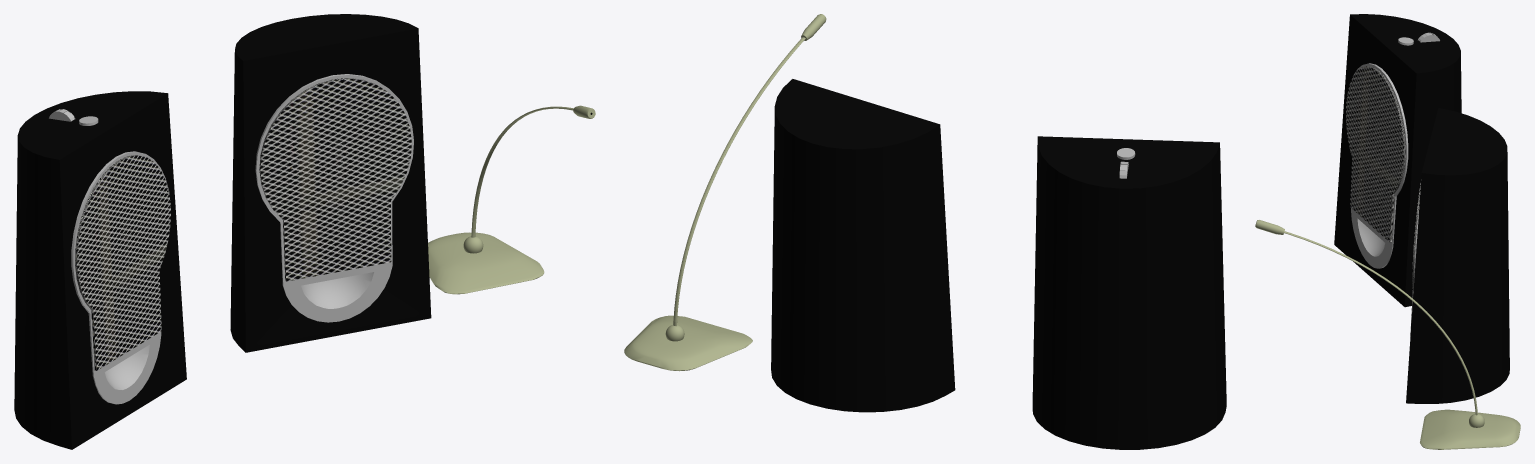
The model's file is NewWebCasseMic.gltf.
3 views of the same model, side by side, from view 1: azimuth 30°, elevation 25°; view 2: azimuth 150°, elevation 25°; view 3: azimuth 270°, elevation 25° (orthographic). The views are drawn at different scales.
Visible parts, largest first — view 1: Bianco Altoparlante SX; view 2: Bianco Altoparlante SX; view 3: Bianco Altoparlante SX.
Part boxes in pixels (<box>): Bianco Altoparlante SX: <box>14,14,595,449</box>; Bianco Altoparlante SX: <box>624,14,1226,449</box>; Bianco Altoparlante SX: <box>1255,14,1520,449</box>.
Size of the model in its own units: 1.11 by 0.5507 by 0.5762.
Materials: 4 (1 with a texture image).
